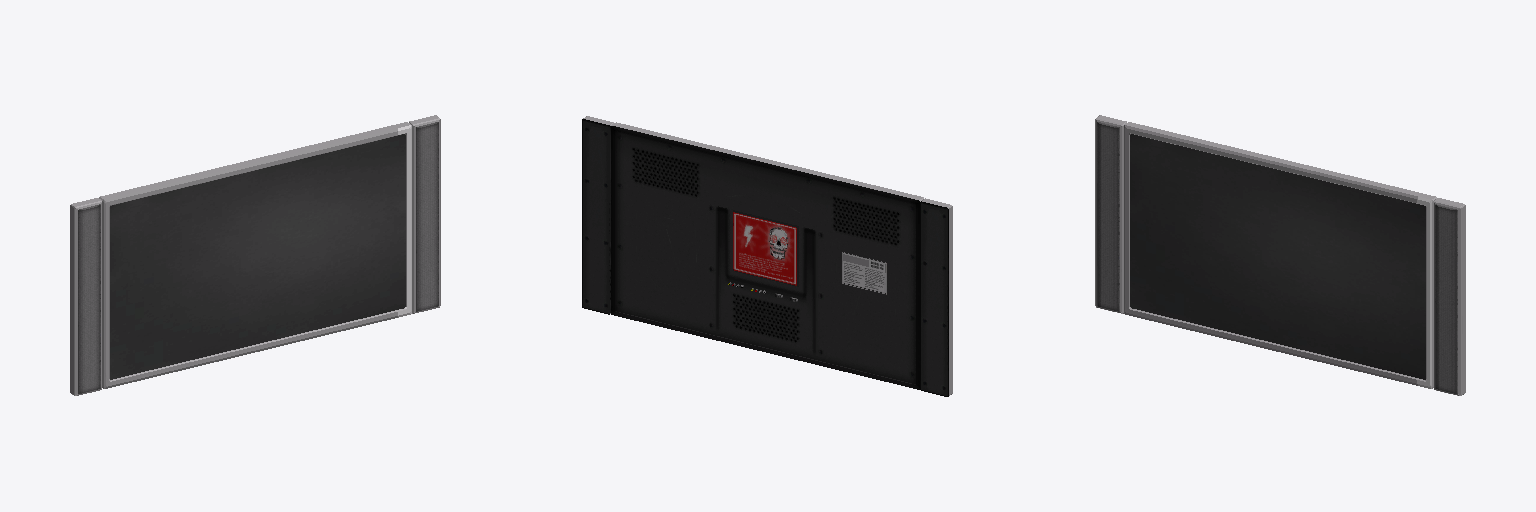
3 renders of one model, left to right at view 1: azimuth 30°, elevation 25°; view 2: azimuth 150°, elevation 25°; view 3: azimuth 330°, elevation 25°, orthographic.
Parts seen in each view (by area): view 1: screen.002, tvwall_surface; view 2: tvwall_surface; view 3: screen.002, tvwall_surface.
Boxes of the visible parts, x1=… form: screen.002: x1=110, y1=134, x2=405, y2=379; tvwall_surface: x1=70, y1=115, x2=440, y2=395; tvwall_surface: x1=582, y1=116, x2=952, y2=396; screen.002: x1=1130, y1=134, x2=1425, y2=379; tvwall_surface: x1=1095, y1=115, x2=1465, y2=395.
Size of the model in its own units: 1.83 by 0.9085 by 0.0585.
2 materials, 2 textured.